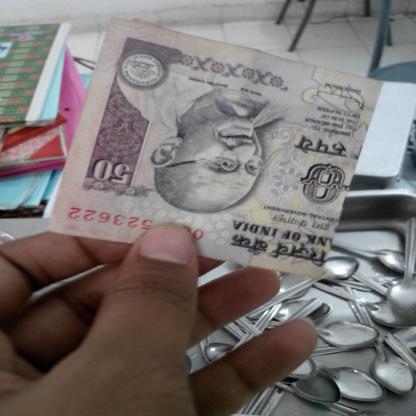Old50Front: (50, 19, 383, 280)
